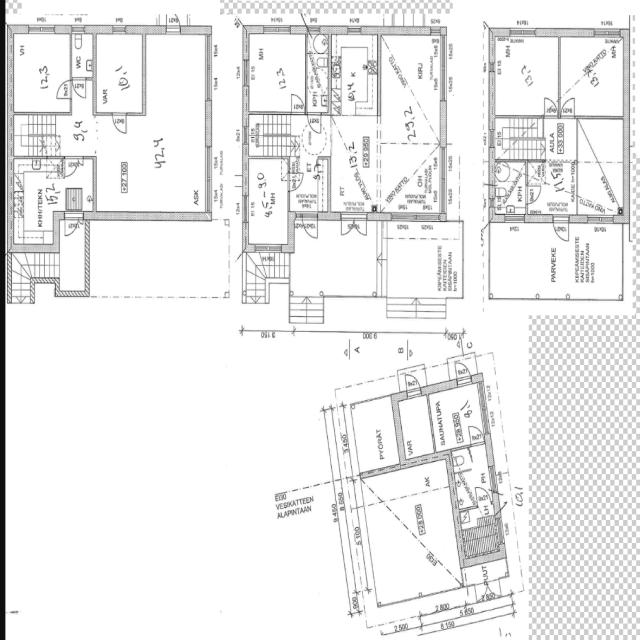door: (340, 212, 361, 238), (552, 214, 571, 242), (62, 154, 82, 179), (301, 213, 319, 240), (403, 370, 420, 398), (306, 110, 324, 135), (559, 94, 577, 118), (111, 110, 128, 135), (454, 359, 470, 384), (54, 78, 72, 100), (165, 11, 182, 34), (525, 183, 543, 204), (289, 91, 306, 113), (63, 215, 80, 237), (353, 214, 368, 238), (542, 95, 559, 116), (474, 482, 491, 502), (72, 78, 88, 99), (467, 423, 484, 442), (288, 172, 303, 192)
window: (436, 30, 450, 101), (202, 42, 215, 103), (580, 110, 618, 124), (580, 211, 617, 225), (402, 453, 430, 470), (363, 462, 389, 480), (372, 461, 398, 478), (203, 143, 213, 186), (508, 26, 538, 40), (439, 146, 449, 181), (263, 23, 292, 35), (592, 27, 621, 39), (27, 23, 55, 35), (412, 211, 440, 223), (241, 57, 250, 87), (389, 213, 417, 222), (502, 213, 526, 223), (240, 123, 250, 146), (242, 194, 250, 221), (344, 24, 363, 35), (487, 124, 495, 149), (111, 24, 127, 35)
zone: (379, 32, 442, 215), (94, 114, 208, 215), (144, 26, 210, 116), (559, 34, 627, 116), (492, 34, 560, 115), (10, 29, 72, 114), (452, 445, 496, 560), (576, 115, 626, 214), (246, 30, 306, 112), (13, 158, 62, 249), (288, 112, 331, 214), (245, 154, 290, 250), (94, 31, 146, 114), (331, 31, 379, 117), (351, 397, 400, 476), (492, 115, 577, 158), (432, 384, 486, 448), (399, 394, 434, 462), (58, 220, 89, 294), (493, 160, 527, 217), (64, 155, 96, 215), (306, 38, 330, 113), (70, 31, 95, 78)
